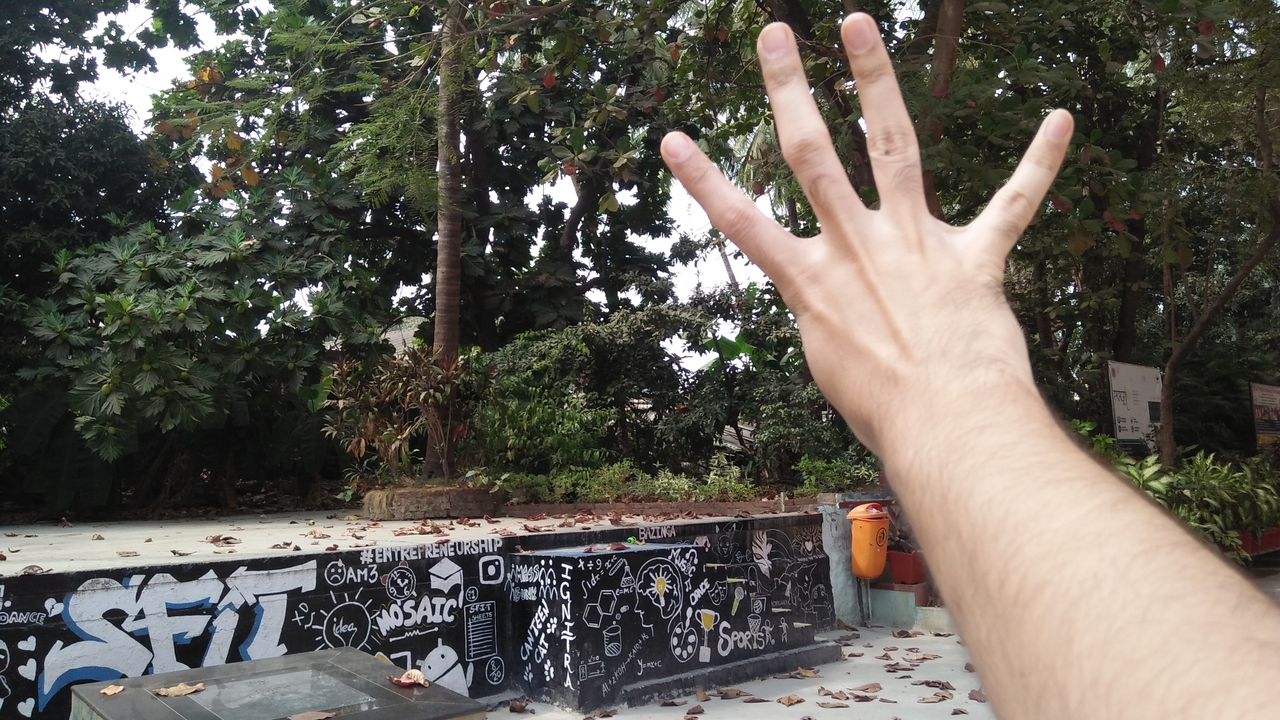fingertip: (652, 122, 708, 170), (1034, 100, 1086, 148), (836, 6, 888, 52), (756, 18, 804, 62)
